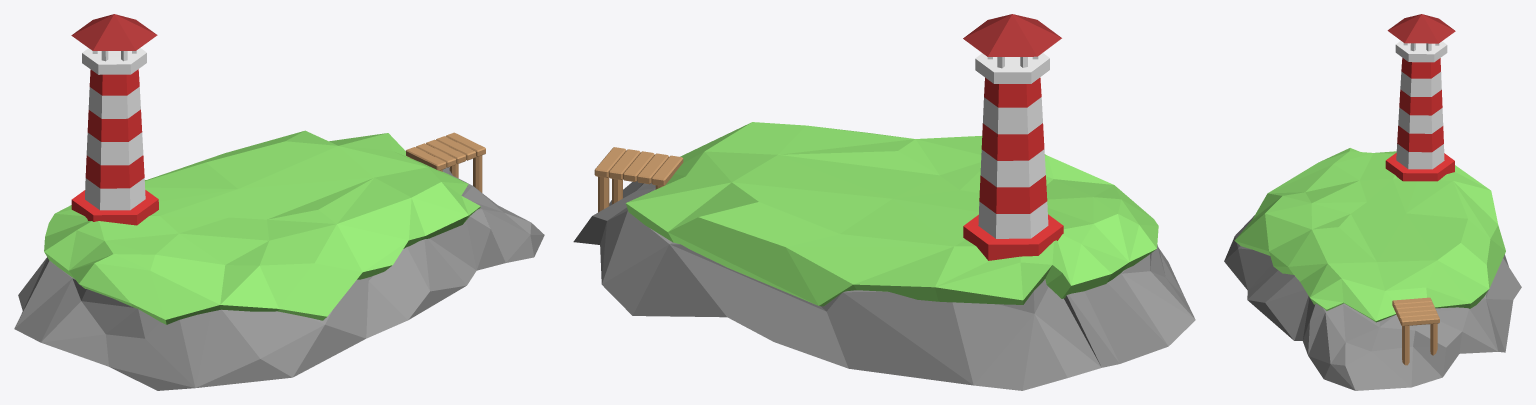
File: Island.fbx
The picture shows the model from 3 angles, left to right: view 1: azimuth 30°, elevation 25°; view 2: azimuth 150°, elevation 25°; view 3: azimuth 270°, elevation 25°; orthographic projection. The views are drawn at different scales.
Parts seen in each view (by area): view 1: Grid.001, Grid, LightHouse, Cube; view 2: Grid.001, Grid, LightHouse, Cube; view 3: Grid.001, Grid, LightHouse, Cube, Cylinder.001.
Part boxes in pixels (box(x1,y1,x2,y2)): Grid.001: box(44, 130, 480, 324); Grid: box(14, 150, 544, 390); LightHouse: box(71, 14, 158, 225); Cube: box(406, 132, 485, 170); Grid.001: box(625, 122, 1158, 306); Grid: box(573, 181, 1195, 390); LightHouse: box(963, 14, 1063, 260); Cube: box(594, 147, 683, 186); Grid.001: box(1234, 148, 1505, 322); Grid: box(1224, 215, 1521, 390); LightHouse: box(1385, 14, 1455, 181); Cube: box(1392, 297, 1439, 326); Cylinder.001: box(1402, 325, 1409, 365).
Size of the model in its own units: 316 by 177 by 203.
